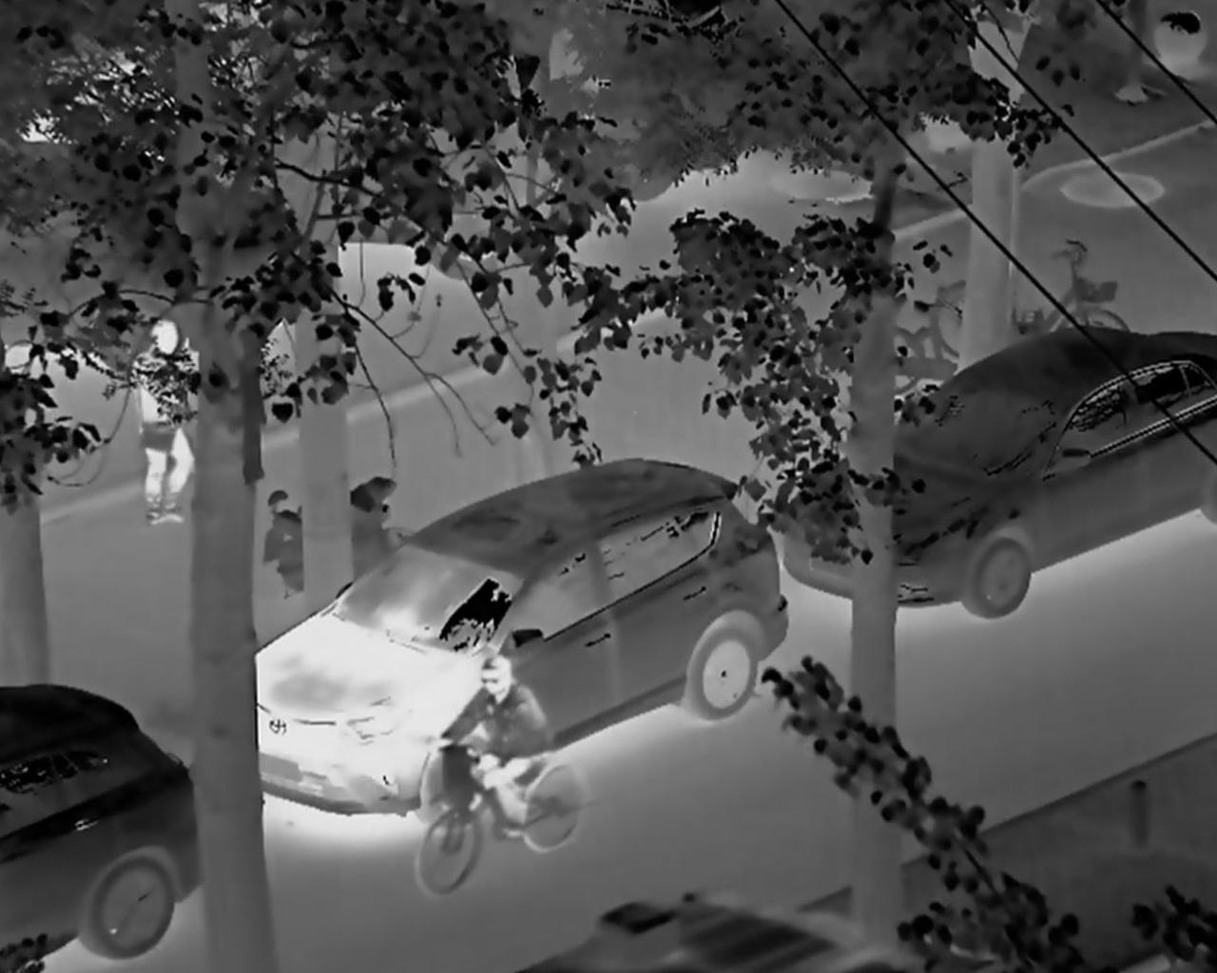person: (425, 652, 563, 877), (111, 315, 203, 538)
